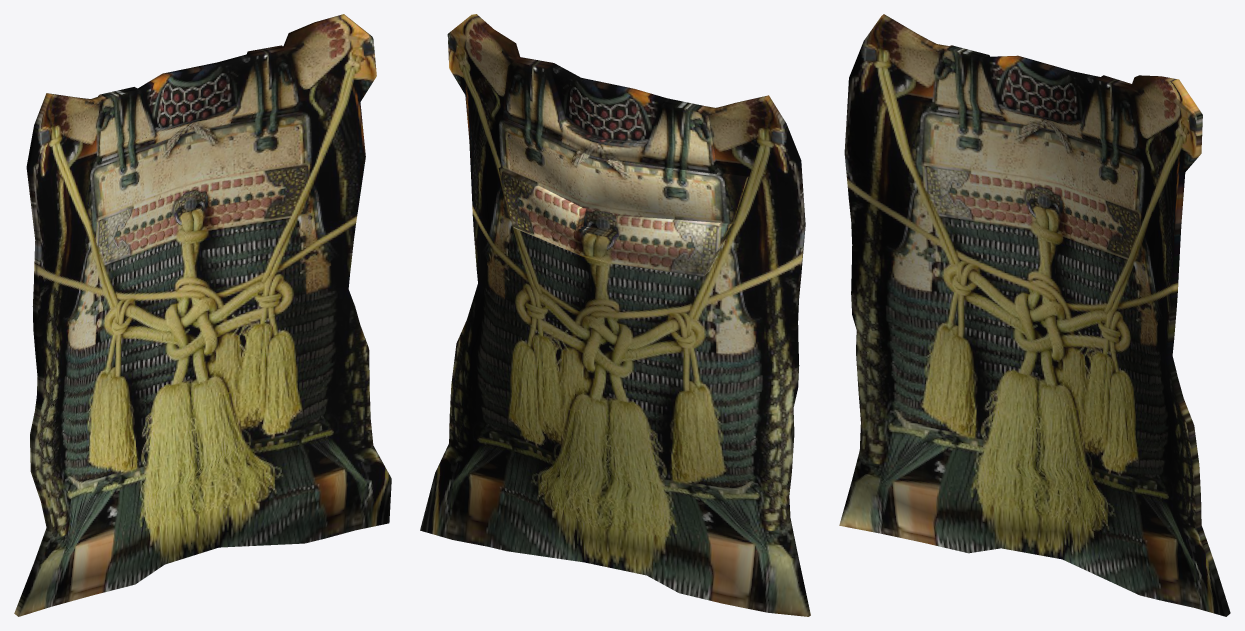
File: armor_body_rear.fbx
The picture shows the model from 3 angles, left to right: view 1: azimuth 30°, elevation 25°; view 2: azimuth 150°, elevation 25°; view 3: azimuth 330°, elevation 25°; orthographic projection.
Parts seen in each view (by area): view 1: armor_body_rear; view 2: armor_body_rear; view 3: armor_body_rear.
Boxes of the visible parts, box(x1,y1,x2,y2) form: armor_body_rear: box(14, 14, 391, 616); armor_body_rear: box(420, 14, 810, 616); armor_body_rear: box(839, 14, 1230, 616).
Size of the model in its own units: 56.69 by 74.47 by 8.44.
Materials: 1 (1 with a texture image).
